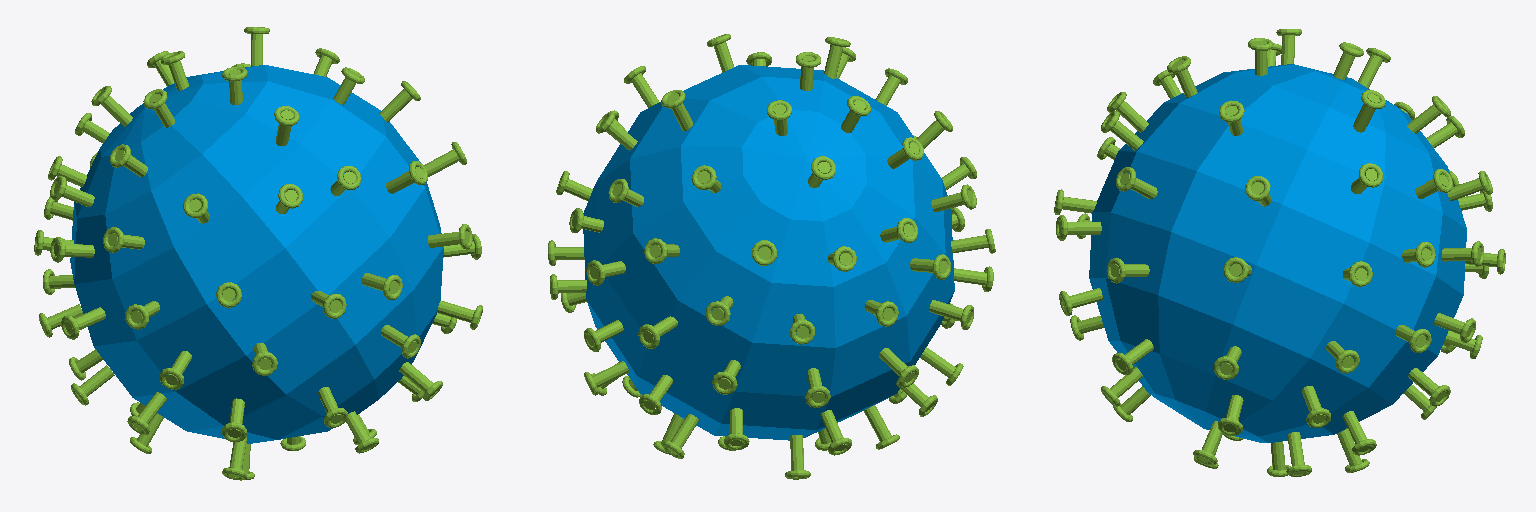
3 renders of one model, left to right at view 1: azimuth 30°, elevation 25°; view 2: azimuth 150°, elevation 25°; view 3: azimuth 270°, elevation 25°, orthographic.
Visible parts, largest first — view 1: group[number redacted], group[number redacted], group[number redacted], group[number redacted], group[number redacted], group[number redacted], group[number redacted], group[number redacted], group[number redacted], group[number redacted], group[number redacted], group[number redacted] (+24 smaller); view 2: group[number redacted], group[number redacted], group[number redacted], group[number redacted], group[number redacted], group[number redacted], group[number redacted], group[number redacted], group[number redacted], group[number redacted], group[number redacted], group[number redacted] (+28 smaller); view 3: group[number redacted], group[number redacted], group[number redacted], group[number redacted], group[number redacted], group[number redacted], group[number redacted], group[number redacted], group[number redacted], group[number redacted], group[number redacted], group[number redacted] (+27 smaller).
Boxes of the visible parts, x1,y1,x2,y2 form: group[number redacted]: [70, 65, 443, 443]; group[number redacted]: [61, 307, 105, 339]; group[number redacted]: [222, 398, 246, 441]; group[number redacted]: [127, 392, 166, 434]; group[number redacted]: [386, 161, 427, 193]; group[number redacted]: [103, 227, 144, 252]; group[number redacted]: [50, 237, 94, 262]; group[number redacted]: [50, 176, 94, 207]; group[number redacted]: [427, 224, 472, 249]; group[number redacted]: [361, 273, 402, 299]; group[number redacted]: [160, 351, 191, 389]; group[number redacted]: [381, 325, 420, 358]; group[number redacted]: [583, 65, 954, 440]; group[number redacted]: [879, 348, 918, 387]; group[number redacted]: [820, 410, 851, 455]; group[number redacted]: [931, 184, 976, 211]; group[number redacted]: [662, 414, 698, 458]; group[number redacted]: [929, 300, 973, 329]; group[number redacted]: [638, 316, 677, 348]; group[number redacted]: [639, 375, 672, 414]; group[number redacted]: [661, 90, 692, 130]; group[number redacted]: [805, 368, 830, 407]; group[number redacted]: [910, 254, 950, 279]; group[number redacted]: [724, 408, 749, 449]; group[number redacted]: [1089, 64, 1466, 442]; group[number redacted]: [1408, 368, 1450, 406]; group[number redacted]: [1353, 90, 1385, 132]; group[number redacted]: [1116, 167, 1157, 198]; group[number redacted]: [1302, 386, 1330, 427]; group[number redacted]: [1112, 339, 1153, 374]; group[number redacted]: [1056, 215, 1101, 240]; group[number redacted]: [1342, 411, 1376, 455]; group[number redacted]: [1107, 258, 1149, 283]; group[number redacted]: [1286, 432, 1311, 476]; group[number redacted]: [1101, 111, 1143, 150]; group[number redacted]: [1218, 395, 1243, 435].
Size of the model in its own units: 0.6909 by 0.672 by 0.6868.